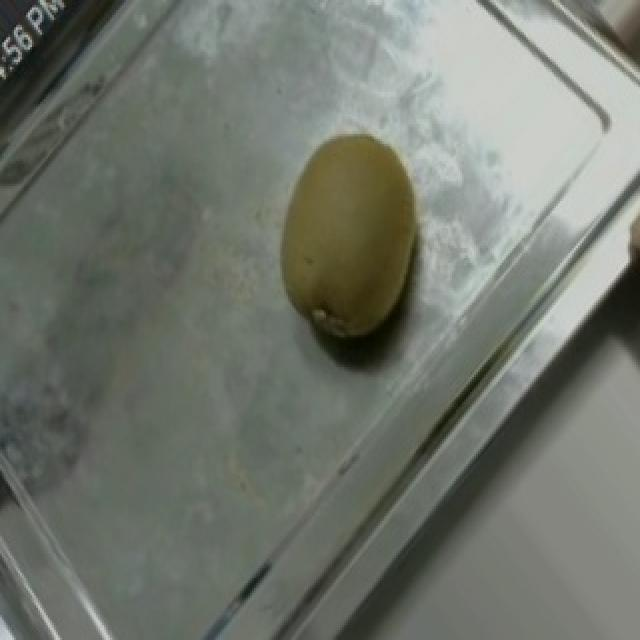Fruit: (240, 106, 456, 374)
